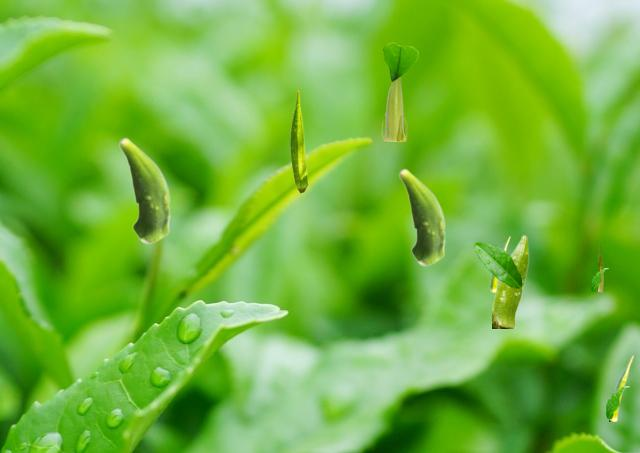okra: (118, 137, 170, 243), (398, 168, 445, 265), (492, 234, 528, 327), (290, 90, 307, 192), (381, 77, 406, 140), (609, 355, 632, 420), (490, 236, 509, 292), (598, 244, 602, 291)
